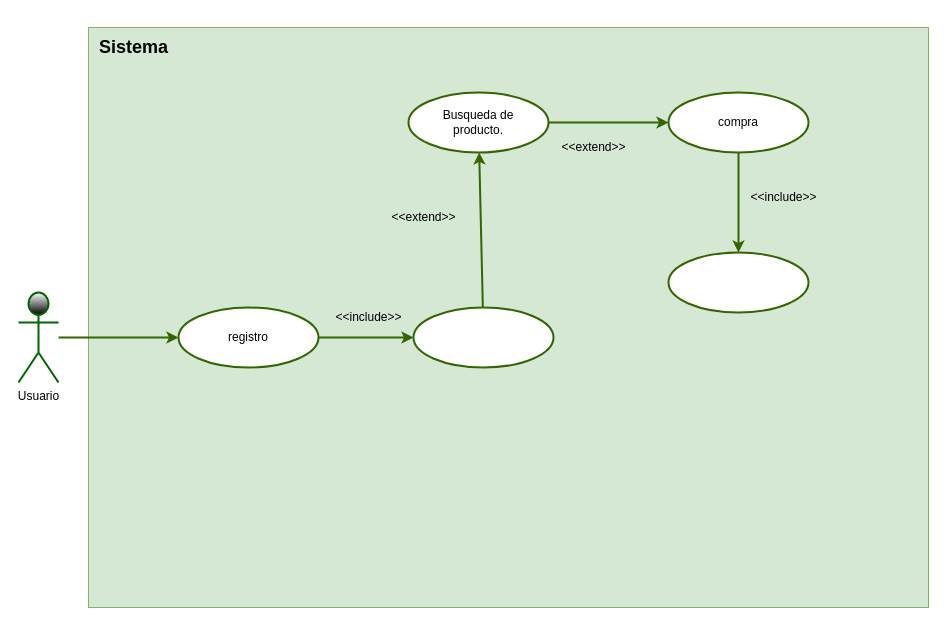
The diagram is 946 pixels wide and 625 high, and some of its shapes have lost their labels. Each missing label, with the box of its shape:
Ingreso al perfil: (412, 306, 554, 368)
Metodos de pago: (667, 251, 809, 313)
